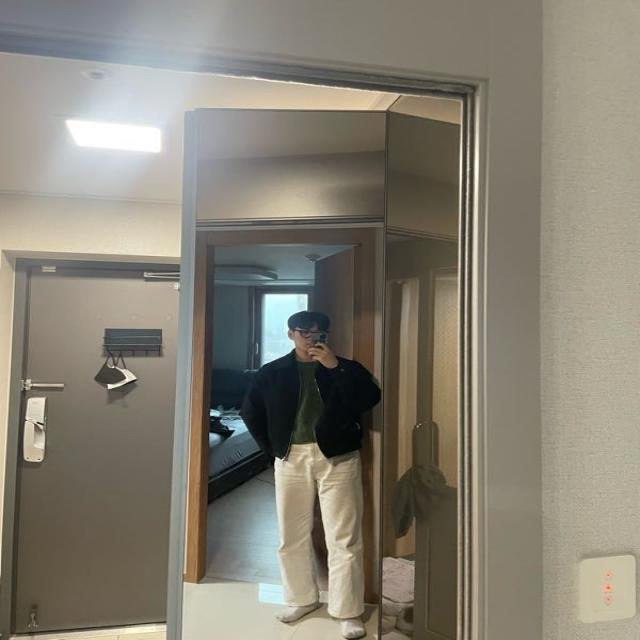cottonpants: (272, 442, 364, 619)
jacket: (238, 354, 380, 465)
